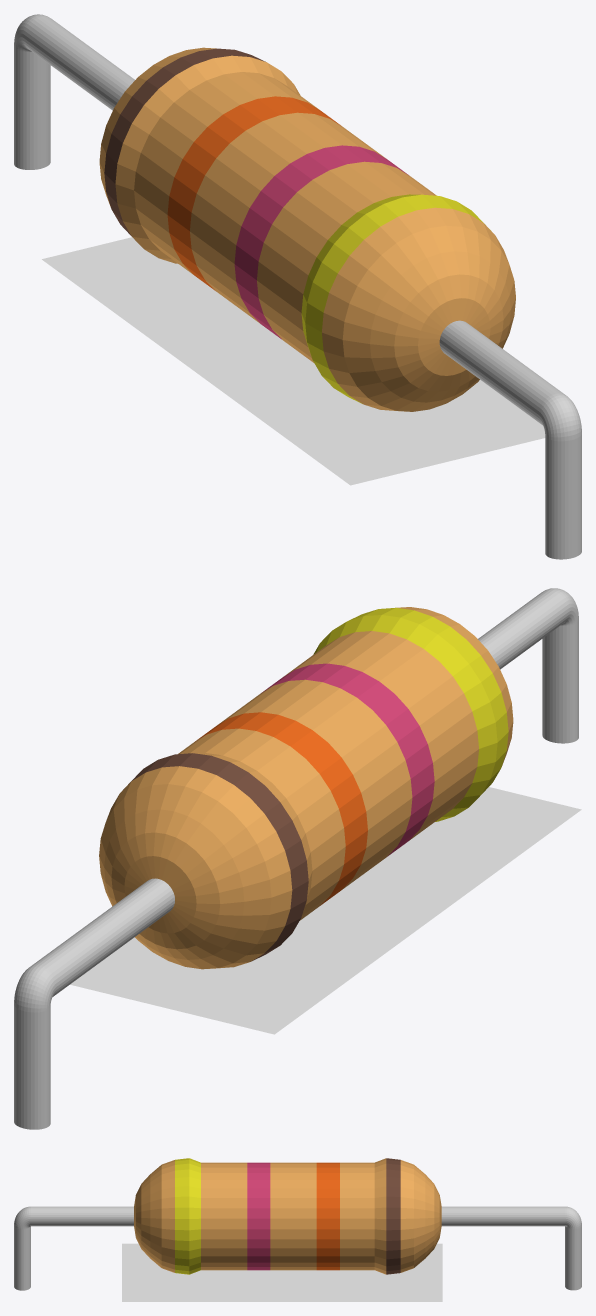
The picture shows the model from 3 angles, top to bottom: view 1: azimuth 30°, elevation 25°; view 2: azimuth 150°, elevation 25°; view 3: azimuth 270°, elevation 25°; orthographic projection. The views are drawn at different scales.
Visible parts, largest first — view 1: R_21, R_21_plane; view 2: R_21, R_21_plane; view 3: R_21, R_21_plane.
Boxes of the visible parts, x1,y1,x2,y2 form: R_21: [14, 14, 581, 559]; R_21_plane: [42, 237, 545, 485]; R_21: [14, 588, 578, 1129]; R_21_plane: [70, 787, 581, 1034]; R_21: [14, 1158, 581, 1290]; R_21_plane: [122, 1243, 442, 1301].
Bounding box in the file's own units: 0.0161 × 0.0159 × 0.0664.
